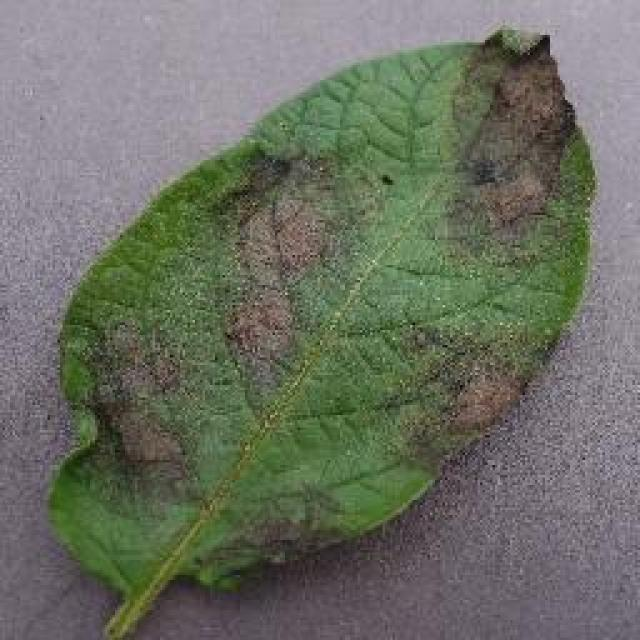green waste: (22, 25, 618, 640)
